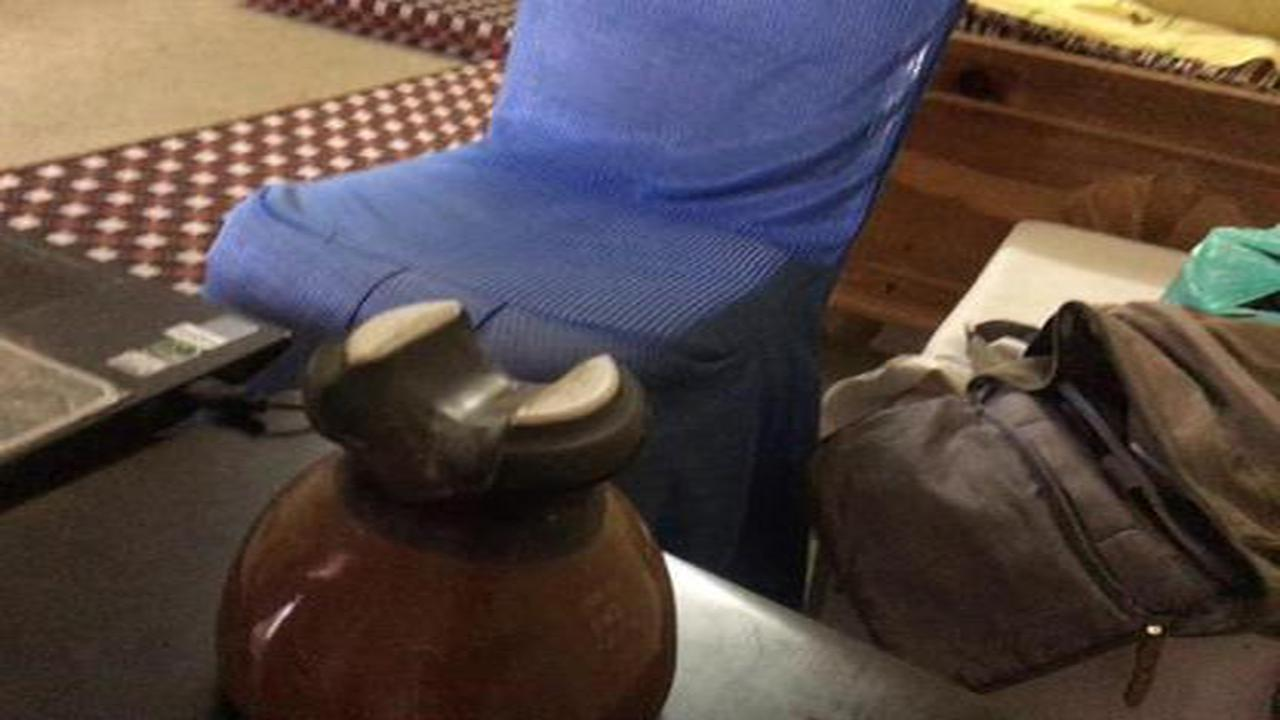insulator_pin: (210, 288, 690, 720)
